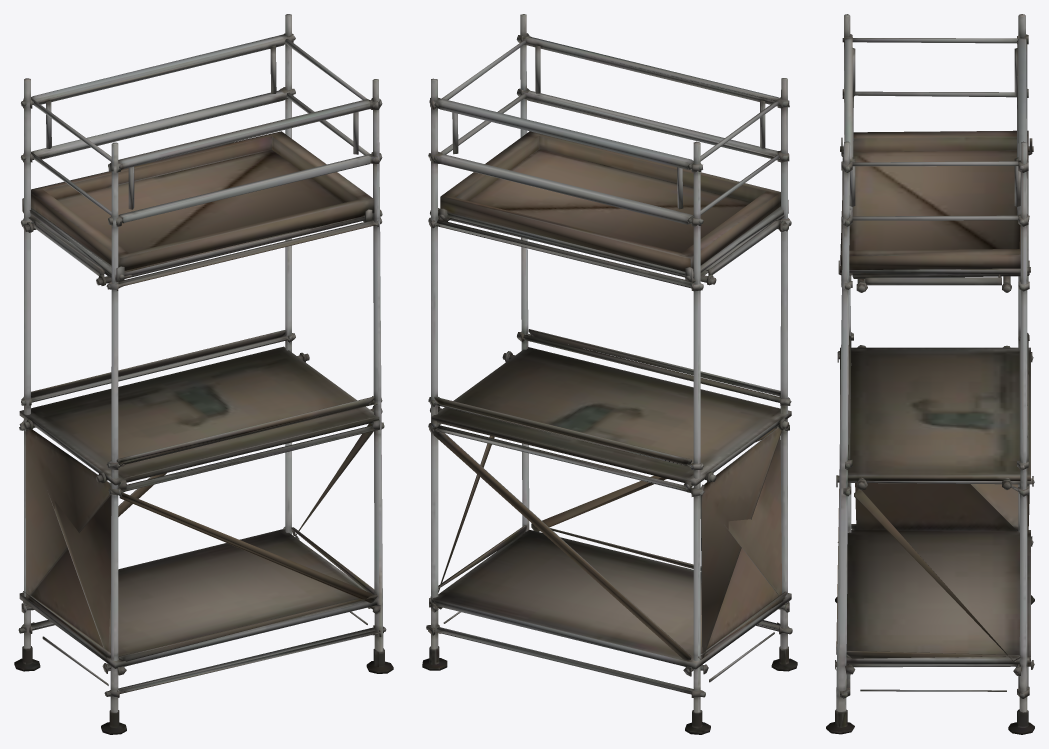
The model's file is prop-scaffold.glb.
3 renders of one model, left to right at view 1: azimuth 30°, elevation 25°; view 2: azimuth 150°, elevation 25°; view 3: azimuth 270°, elevation 25°, orthographic.
Parts seen in each view (by area): view 1: Scaffold tower; view 2: Scaffold tower; view 3: Scaffold tower.
Boxes of the visible parts, x1,y1,x2,y2 form: Scaffold tower: (14,14,393,734); Scaffold tower: (422,14,797,734); Scaffold tower: (826,14,1034,734).
Size of the model in its own units: 0.5098 by 0.998 by 0.3223.
1 material, 1 textured.
